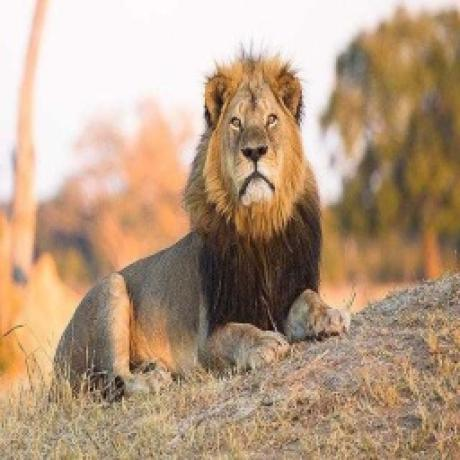Lion: (50, 44, 352, 405)
